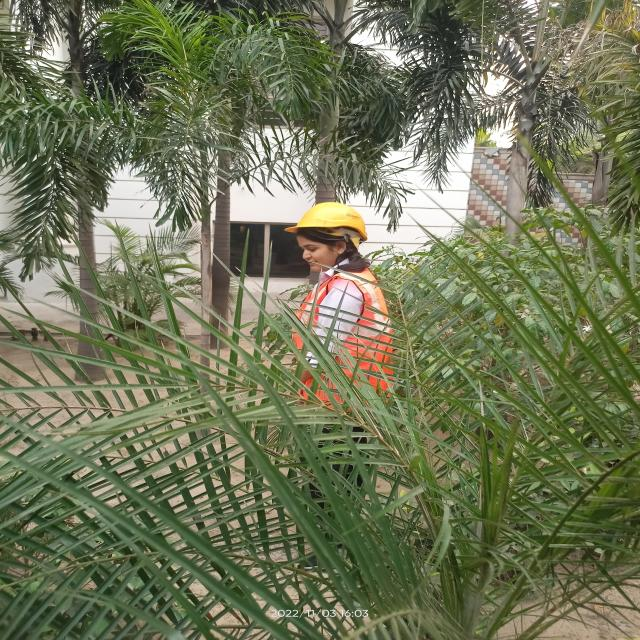safe: (268, 193, 418, 457)
